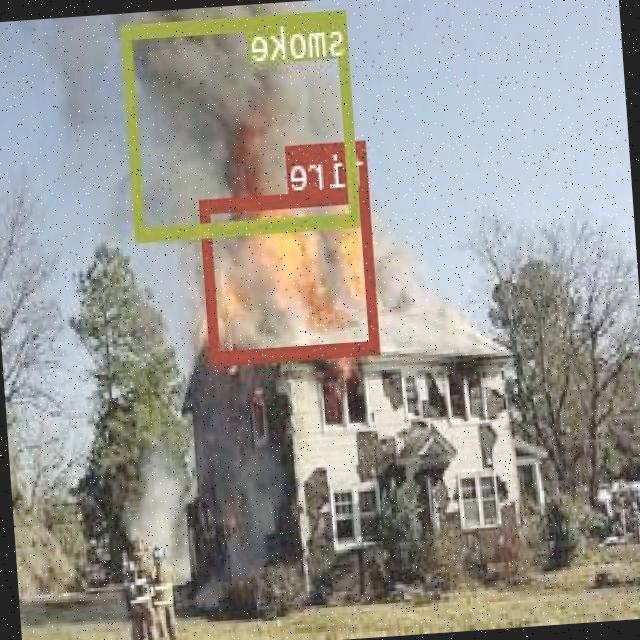fire: (201, 187, 382, 363)
smoke: (121, 8, 362, 238)
